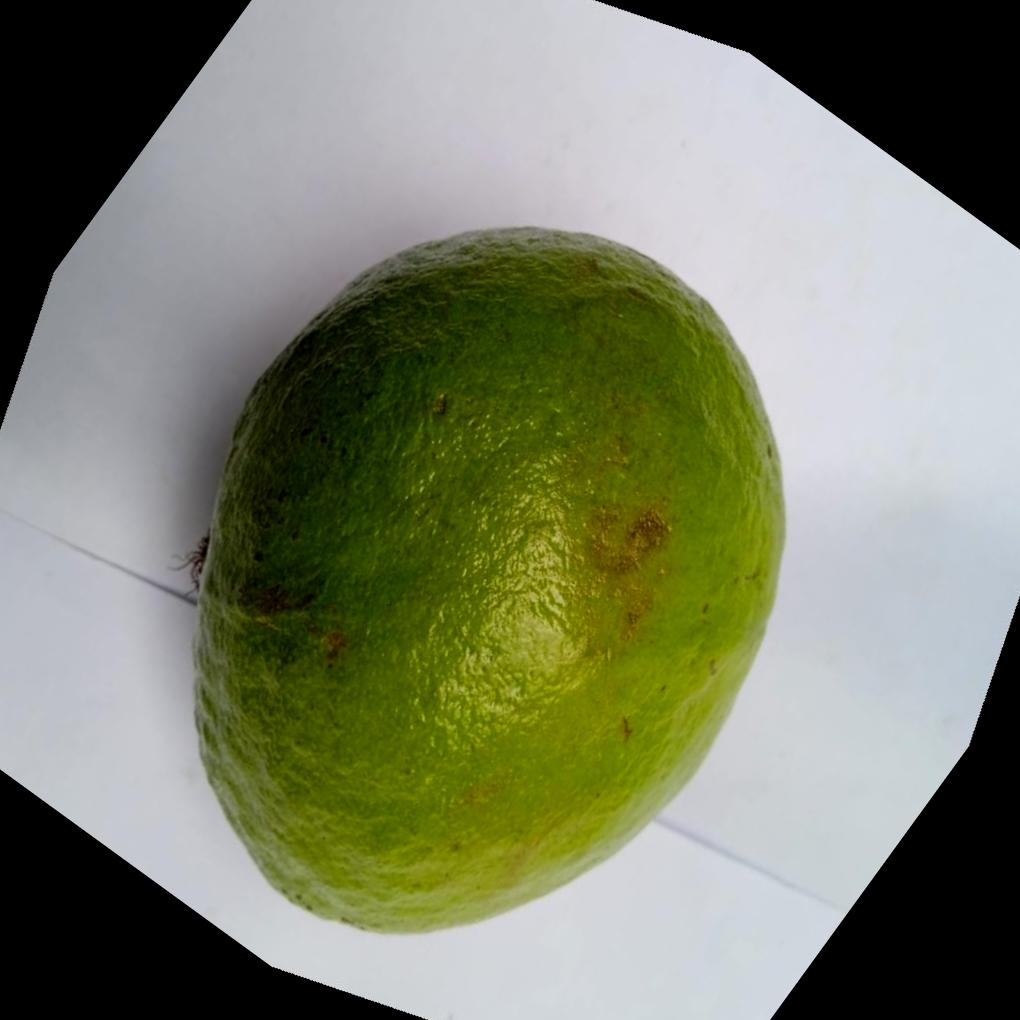FreshGuava: (188, 221, 785, 936)
